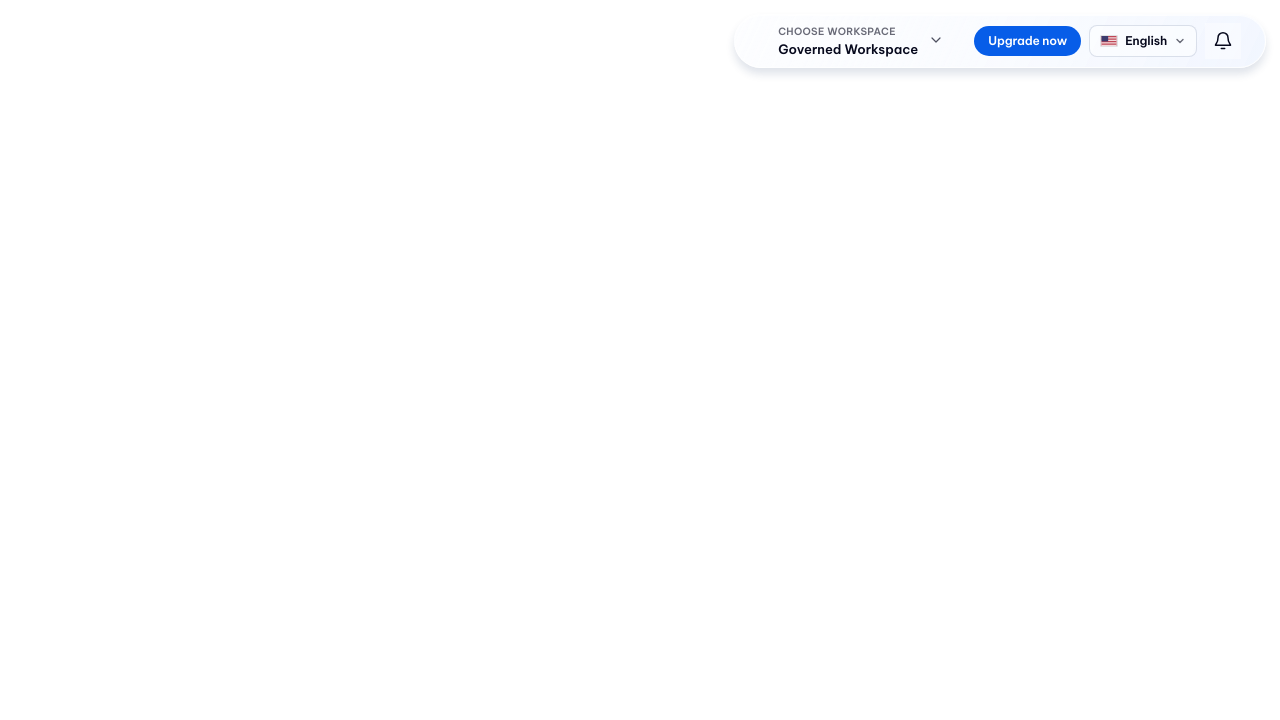
workspace topbar notifications › has no zero badge and no fake entries when notification state is empty
This screenshot has width=1280, height=720.
Step 1. Click the button named "Notifications" → click(1223, 41), box [1205,23,1241,59]
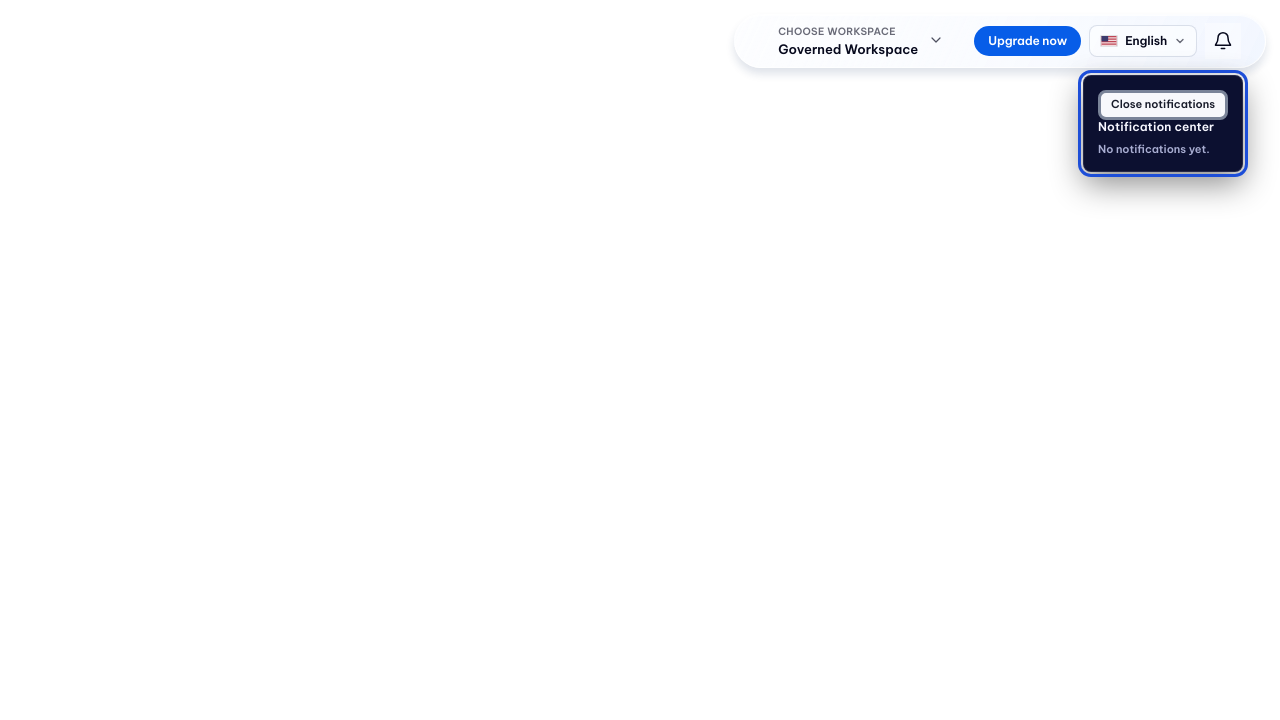
Expected: the message reads "No notifications yet.", [1098,142,1210,156]
